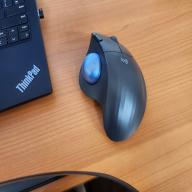mouse: (80, 31, 148, 142)
